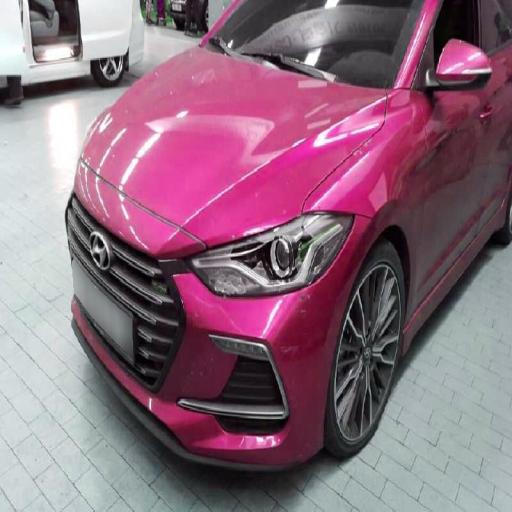scratch: (111, 70, 371, 475)
